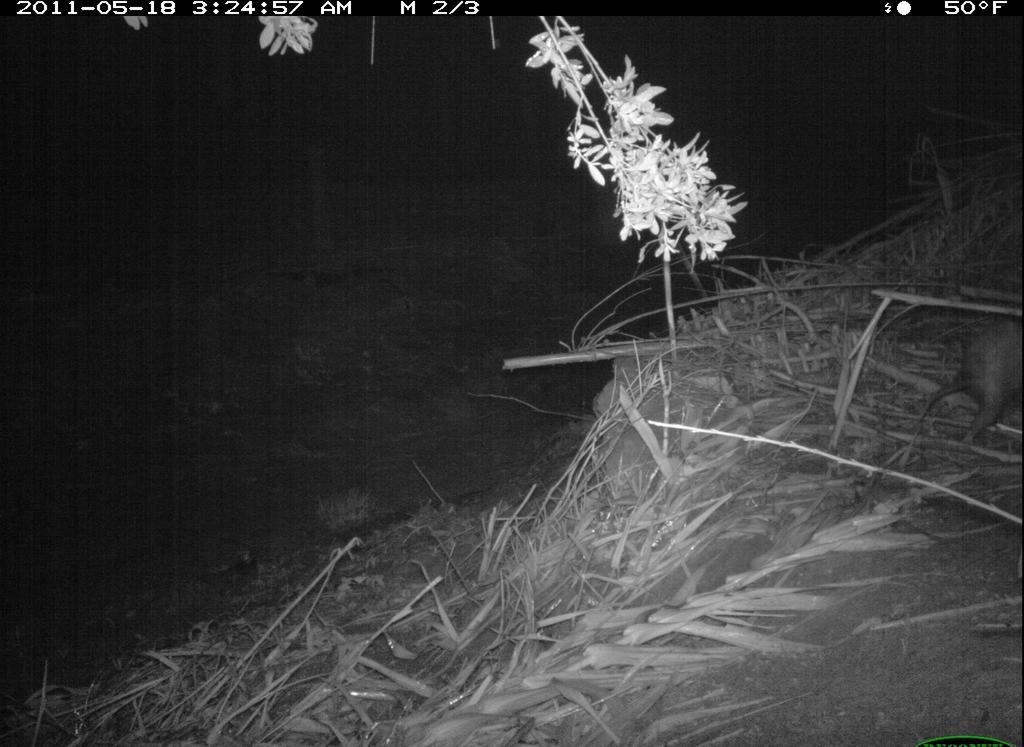opossum: (917, 299, 1023, 486)
